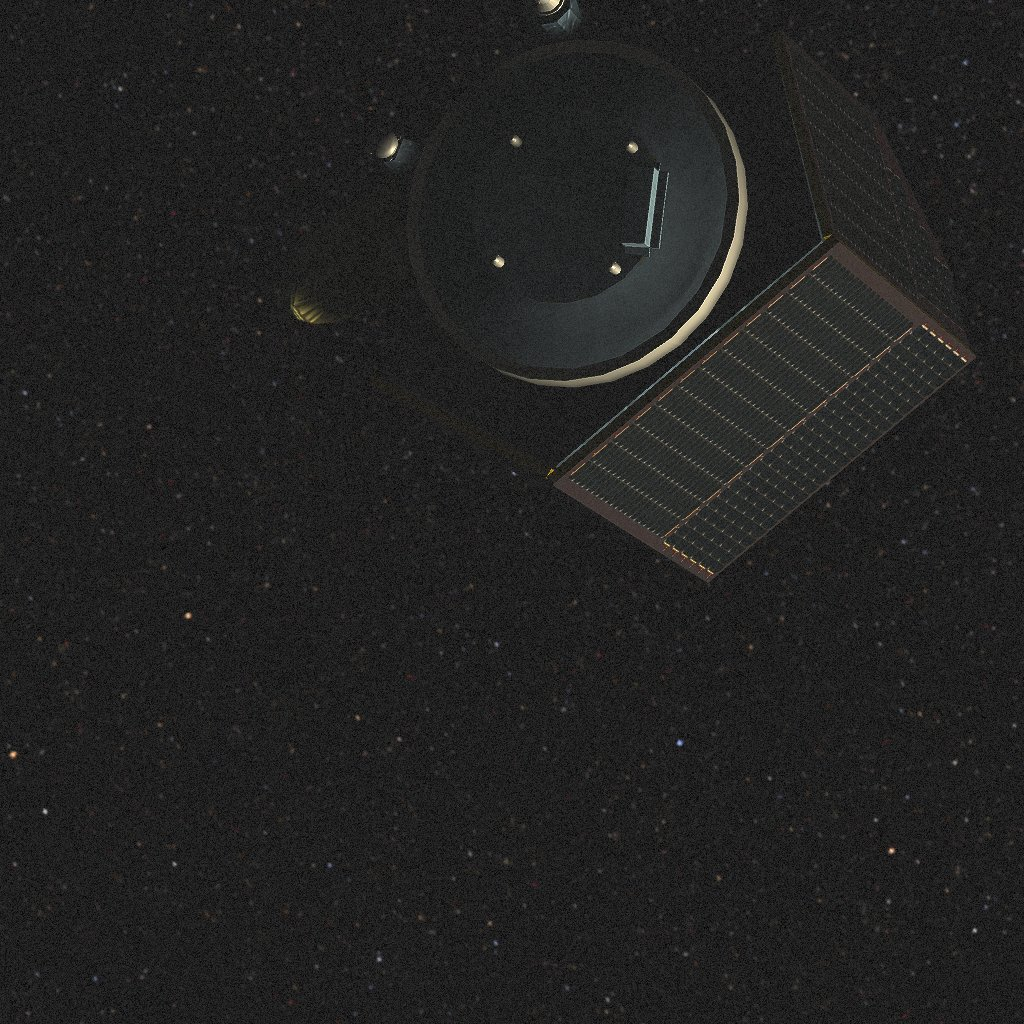cheops: (305, 18, 954, 568)
